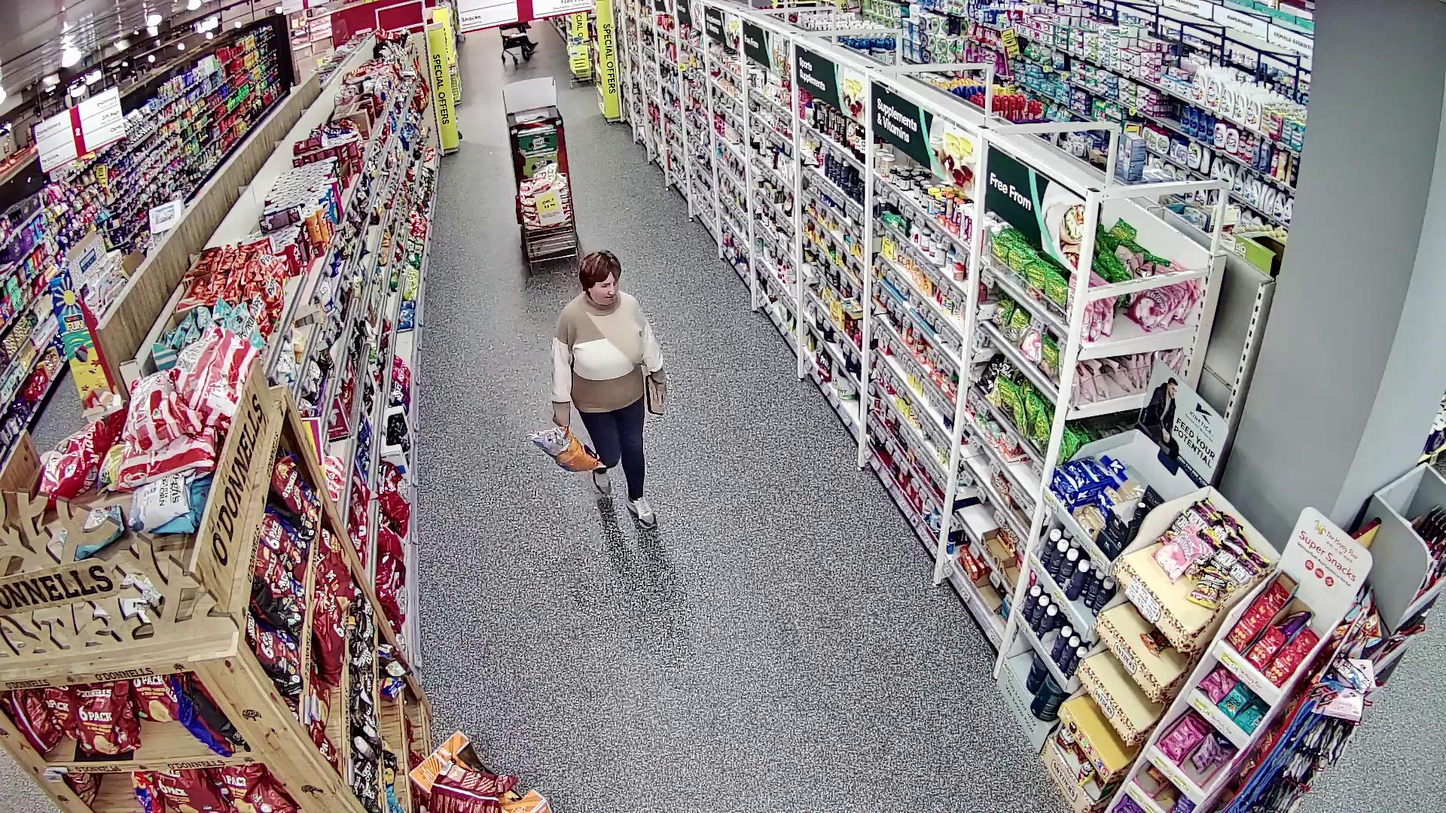carrying-item: (528, 423, 600, 472)
person: (550, 250, 667, 530)
person-with-carrying-item: (528, 250, 669, 530)
